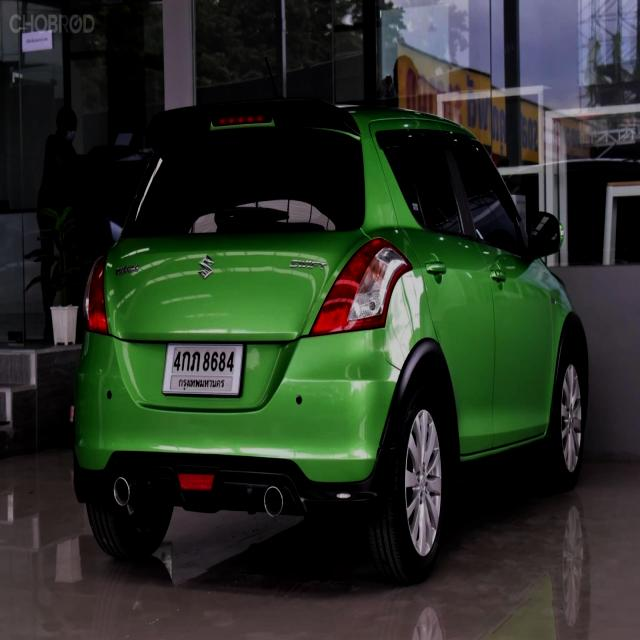license_plate: (162, 340, 245, 401)
